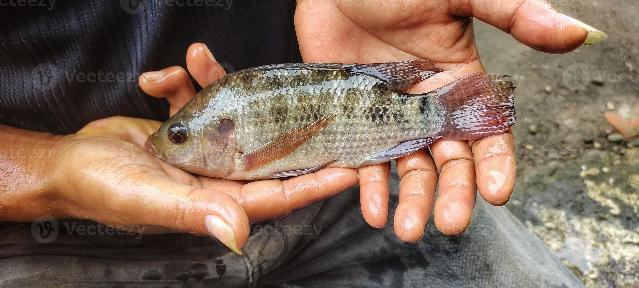Mulut: (136, 132, 170, 166)
Sirip Anal: (356, 133, 450, 181)
Sirip Dada: (232, 108, 338, 174), (270, 164, 350, 198)
Sirip Ekor: (424, 62, 532, 156)
Sirip Punggung: (348, 49, 446, 99)
